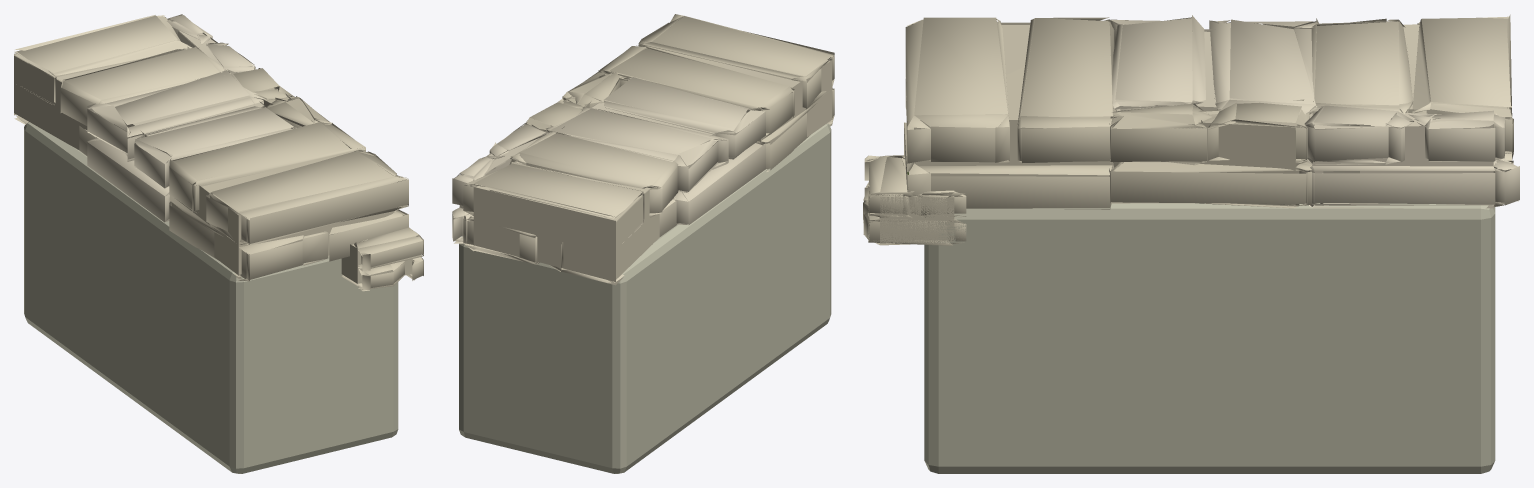
Rendered from bridge-01.glb.
The picture shows the model from 3 angles, left to right: view 1: azimuth 30°, elevation 25°; view 2: azimuth 150°, elevation 25°; view 3: azimuth 270°, elevation 25°; orthographic projection. The views are drawn at different scales.
Visible parts, largest first — view 1: Continuous arch foundation, CC0 worn paving, CC0 worn paving.003, CC0 worn paving.001, CC0 worn paving.005, CC0 worn paving.002, CC0 worn paving.004; view 2: Continuous arch foundation, CC0 worn paving.003, CC0 worn paving, CC0 worn paving.001, CC0 worn paving.004, CC0 worn paving.002; view 3: Continuous arch foundation, CC0 worn paving, CC0 worn paving.002, CC0 worn paving.004, CC0 worn paving.003, CC0 worn paving.001, CC0 worn paving.005.
Part boxes in pixels (x1,y1,x2,y2): Continuous arch foundation: (24, 122, 398, 473); CC0 worn paving: (169, 122, 408, 281); CC0 worn paving.003: (14, 15, 230, 155); CC0 worn paving.001: (87, 69, 296, 222); CC0 worn paving.005: (341, 227, 423, 291); CC0 worn paving.002: (224, 68, 332, 128); CC0 worn paving.004: (167, 14, 255, 72); Continuous arch foundation: (459, 123, 831, 473); CC0 worn paving.003: (463, 131, 678, 285); CC0 worn paving: (600, 14, 834, 171); CC0 worn paving.001: (545, 77, 765, 224); CC0 worn paving.004: (452, 123, 553, 243); CC0 worn paving.002: (525, 70, 628, 132); Continuous arch foundation: (924, 203, 1495, 473); CC0 worn paving: (904, 17, 1114, 209); CC0 worn paving.002: (1109, 99, 1319, 208); CC0 worn paving.004: (1299, 105, 1519, 208); CC0 worn paving.003: (1309, 14, 1513, 163); CC0 worn paving.001: (1110, 15, 1318, 126); CC0 worn paving.005: (863, 155, 966, 245).
Size of the model in its own units: 1 by 1.53 by 2.55.
